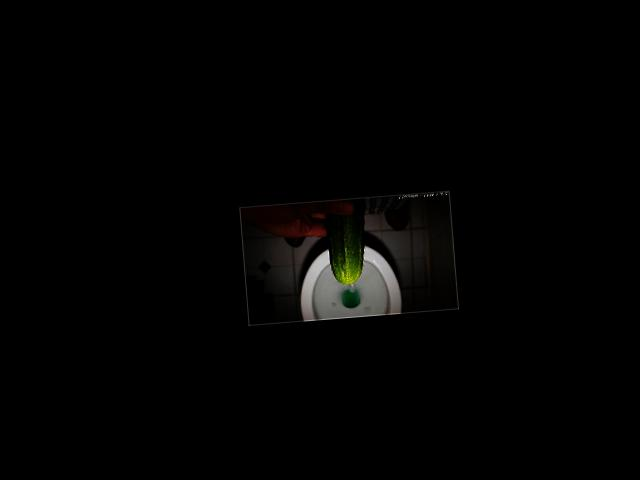cucumber: (324, 196, 371, 285)
